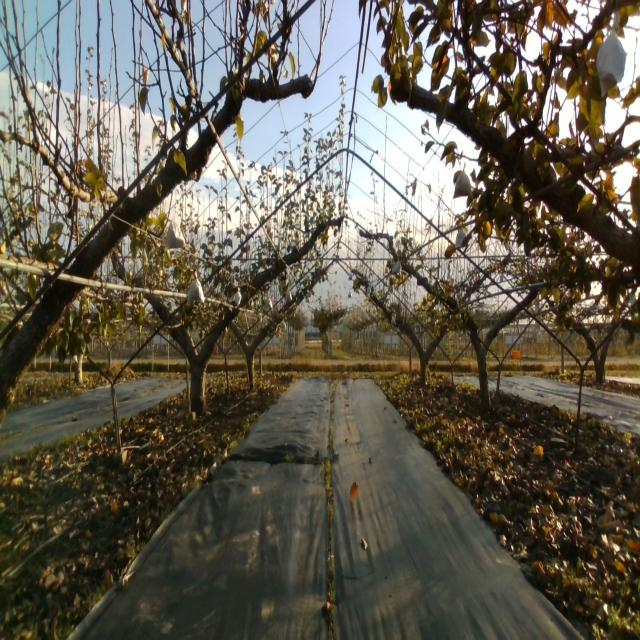pearbags: (595, 12, 627, 98), (453, 163, 473, 201), (186, 269, 205, 304), (164, 219, 186, 249), (455, 228, 467, 250)
